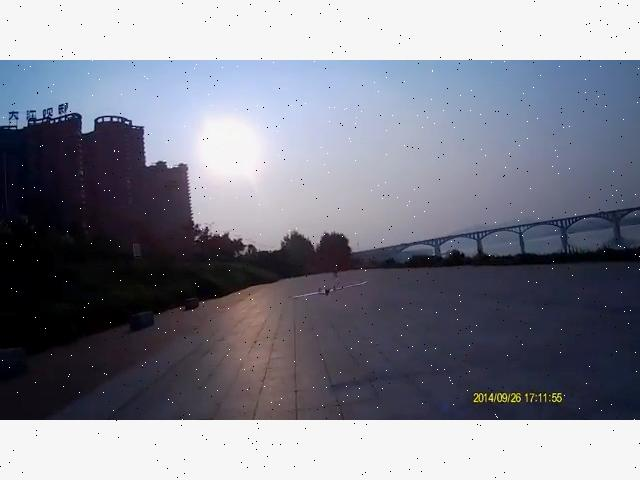Anti-Drone: (266, 273, 388, 307)
